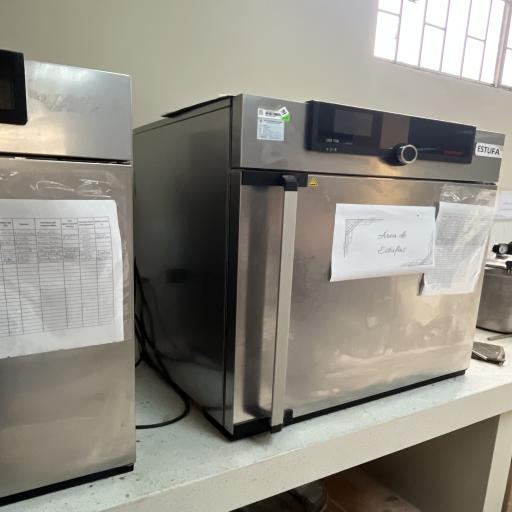Estufa_Memmert: (130, 76, 512, 446)
